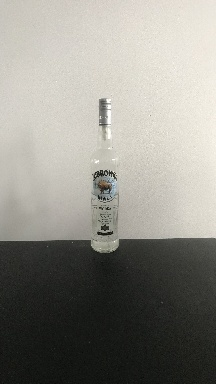butelka: (89, 94, 120, 256)
